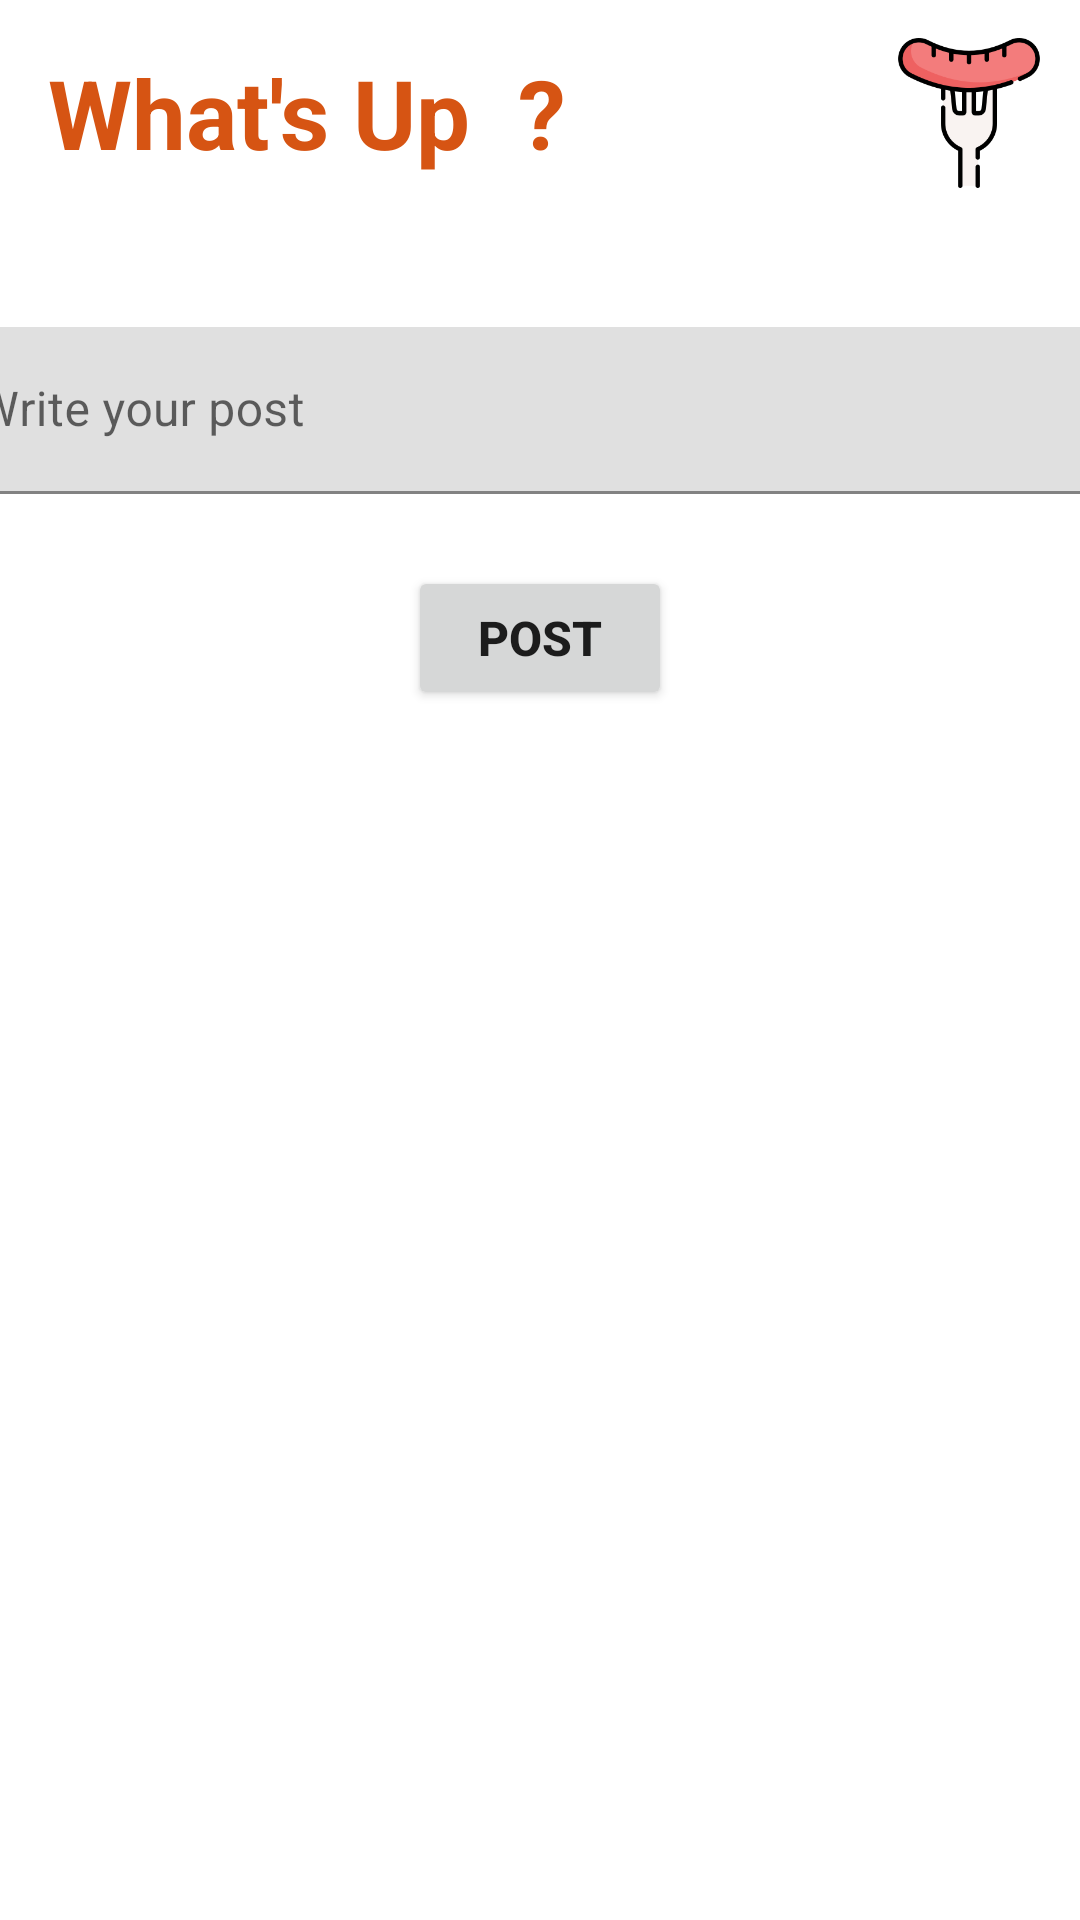

Named icons in this screenshot (1080 × 1920) and their centers, point (x, y):
sausage fork: point (969, 113)
